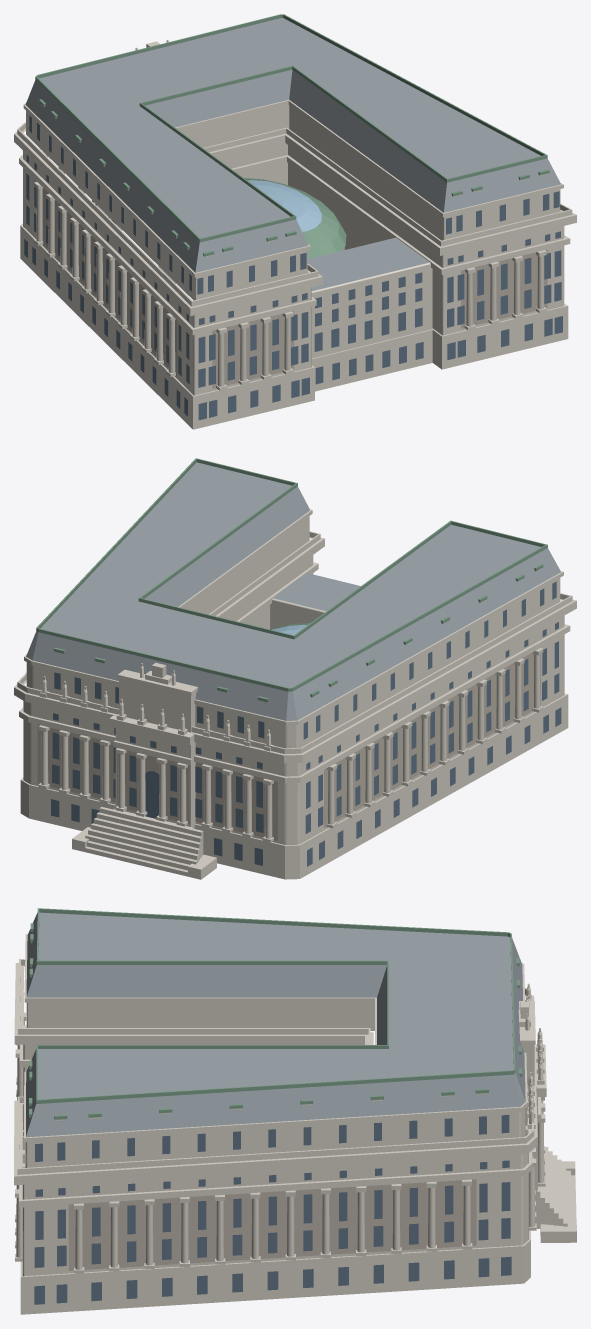
Rendered from nyc-custom-house.glb.
3 renders of one model, top to bottom at view 1: azimuth 30°, elevation 25°; view 2: azimuth 150°, elevation 25°; view 3: azimuth 270°, elevation 25°, orthographic. The views are drawn at different scales.
Visible parts, largest first — view 1: Alexander Hamilton U.S. Custom House; view 2: Alexander Hamilton U.S. Custom House; view 3: Alexander Hamilton U.S. Custom House.
Boxes of the visible parts, box(x1,y1,x2,y2) form: Alexander Hamilton U.S. Custom House: box(14, 14, 576, 429); Alexander Hamilton U.S. Custom House: box(14, 458, 576, 879); Alexander Hamilton U.S. Custom House: box(14, 908, 576, 1314).
Size of the model in its own units: 89.13 by 40.2 by 99.25.
